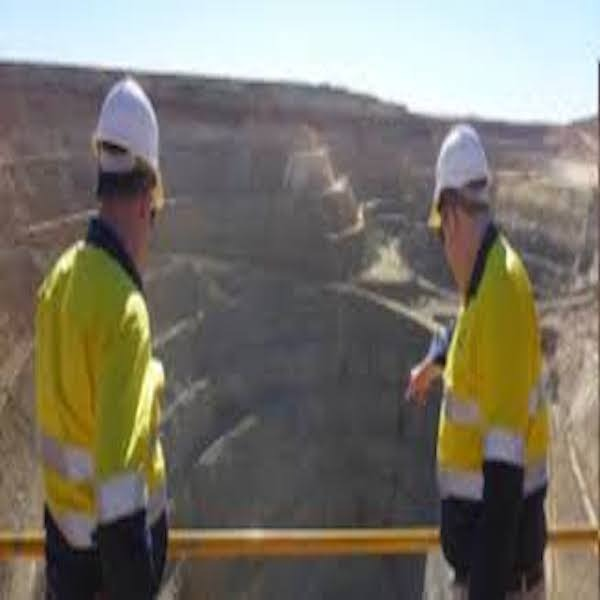helmet: (430, 120, 492, 229), (99, 79, 163, 166)
vest: (35, 251, 160, 542), (436, 246, 551, 518)
